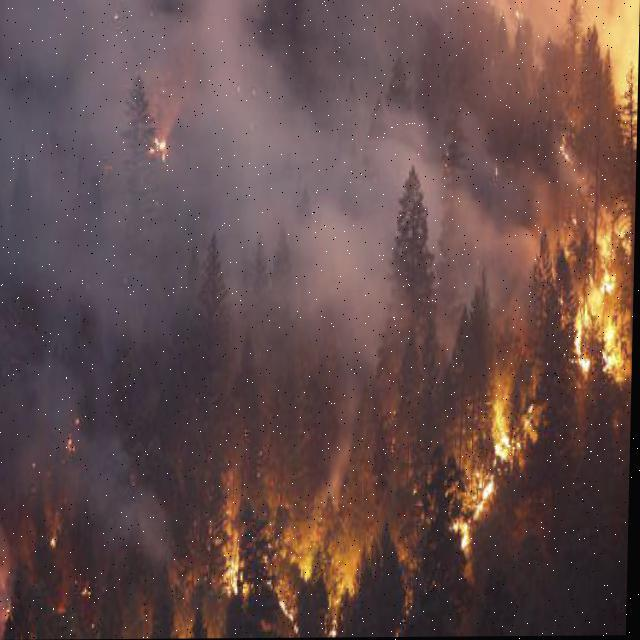Fire: (558, 32, 638, 378), (218, 459, 374, 608), (446, 348, 538, 554)
